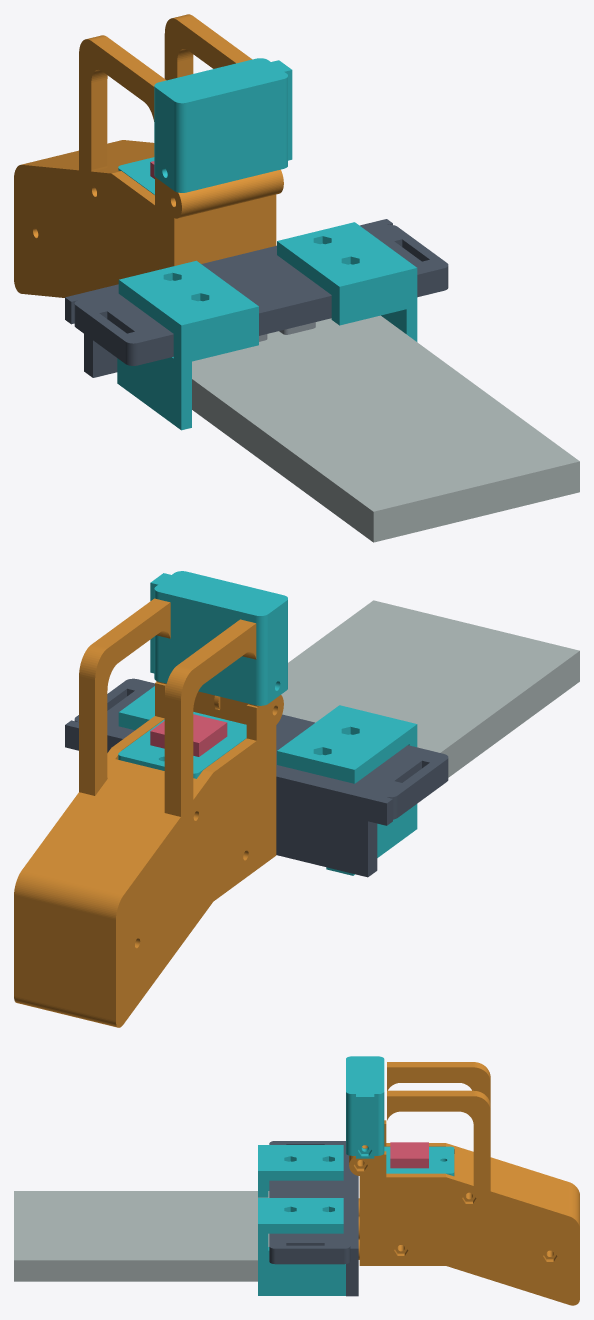
The model's file is blaster-assembly.glb.
The picture shows the model from 3 angles, top to bottom: view 1: azimuth 30°, elevation 25°; view 2: azimuth 150°, elevation 25°; view 3: azimuth 270°, elevation 25°; orthographic projection. The views are drawn at different scales.
Parts seen in each view (by area): view 1: component_13, component_0, component_3, component_2, component_5, component_6, component_1, component_4; view 2: component_0, component_13, component_1, component_2, component_3, component_5, component_4, component_14, component_6; view 3: component_1, component_13, component_6, component_2, component_0, component_3, component_5, component_4, component_14.
Part boxes in pixels (x1,y1,x2,y2): component_13: [192, 315, 579, 542]; component_0: [14, 35, 232, 297]; component_3: [154, 58, 292, 192]; component_2: [65, 219, 448, 377]; component_5: [117, 260, 258, 430]; component_6: [277, 222, 417, 341]; component_1: [73, 14, 283, 257]; component_4: [118, 157, 154, 194]; component_0: [65, 619, 283, 1027]; component_13: [281, 600, 579, 777]; component_1: [14, 598, 219, 1014]; component_2: [65, 678, 448, 877]; component_3: [150, 571, 287, 705]; component_5: [277, 705, 417, 875]; component_4: [118, 712, 246, 778]; component_14: [150, 714, 227, 756]; component_6: [118, 686, 154, 730]; component_1: [349, 1090, 579, 1305]; component_13: [14, 1191, 269, 1281]; component_6: [258, 1198, 345, 1295]; component_2: [269, 1141, 358, 1296]; component_0: [358, 1062, 579, 1216]; component_3: [346, 1056, 384, 1158]; component_5: [258, 1145, 343, 1197]; component_4: [384, 1146, 454, 1176]; component_14: [390, 1142, 428, 1168].
Bounding box in the file's own units: 0.12 × 0.1106 × 0.266.
